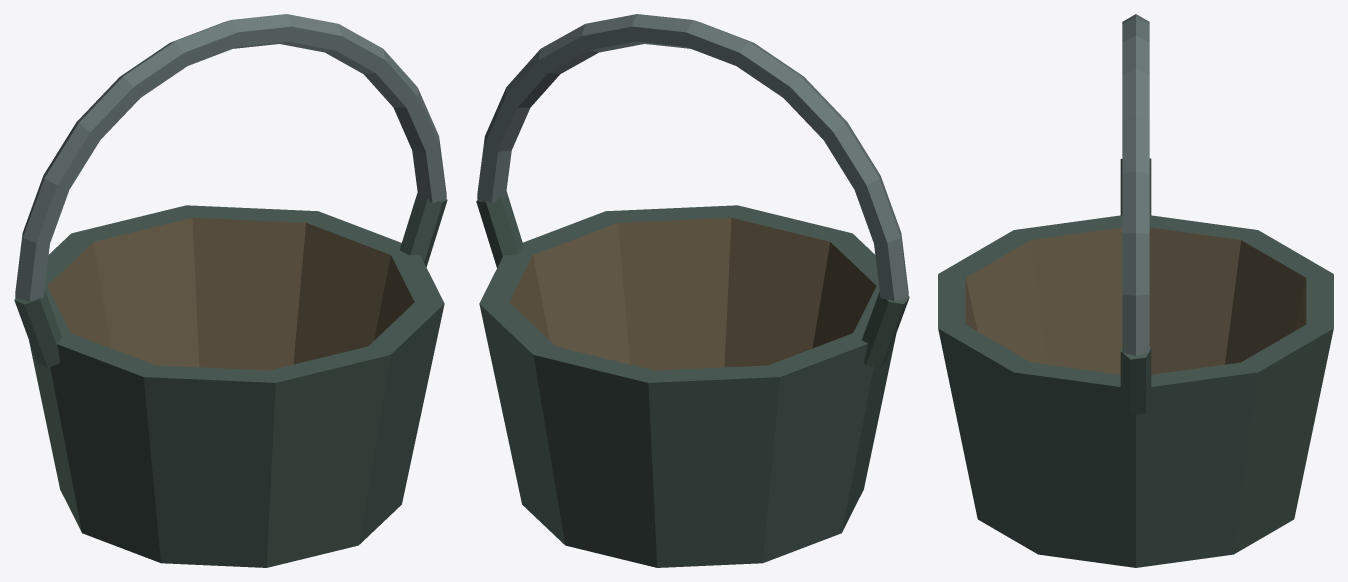
File: qc_cooking_pot.obj
3 views of the same model, side by side, from view 1: azimuth 30°, elevation 25°; view 2: azimuth 150°, elevation 25°; view 3: azimuth 270°, elevation 25° (orthographic). The views are drawn at different scales.
Visible parts, largest first — view 1: qc_cooking_pot; view 2: qc_cooking_pot; view 3: qc_cooking_pot.
Boxes of the visible parts, x1,y1,x2,y2 form: qc_cooking_pot: [14, 14, 447, 567]; qc_cooking_pot: [476, 14, 909, 567]; qc_cooking_pot: [938, 14, 1333, 567].
Size of the model in its own units: 0.556 by 0.588 by 0.4565.
